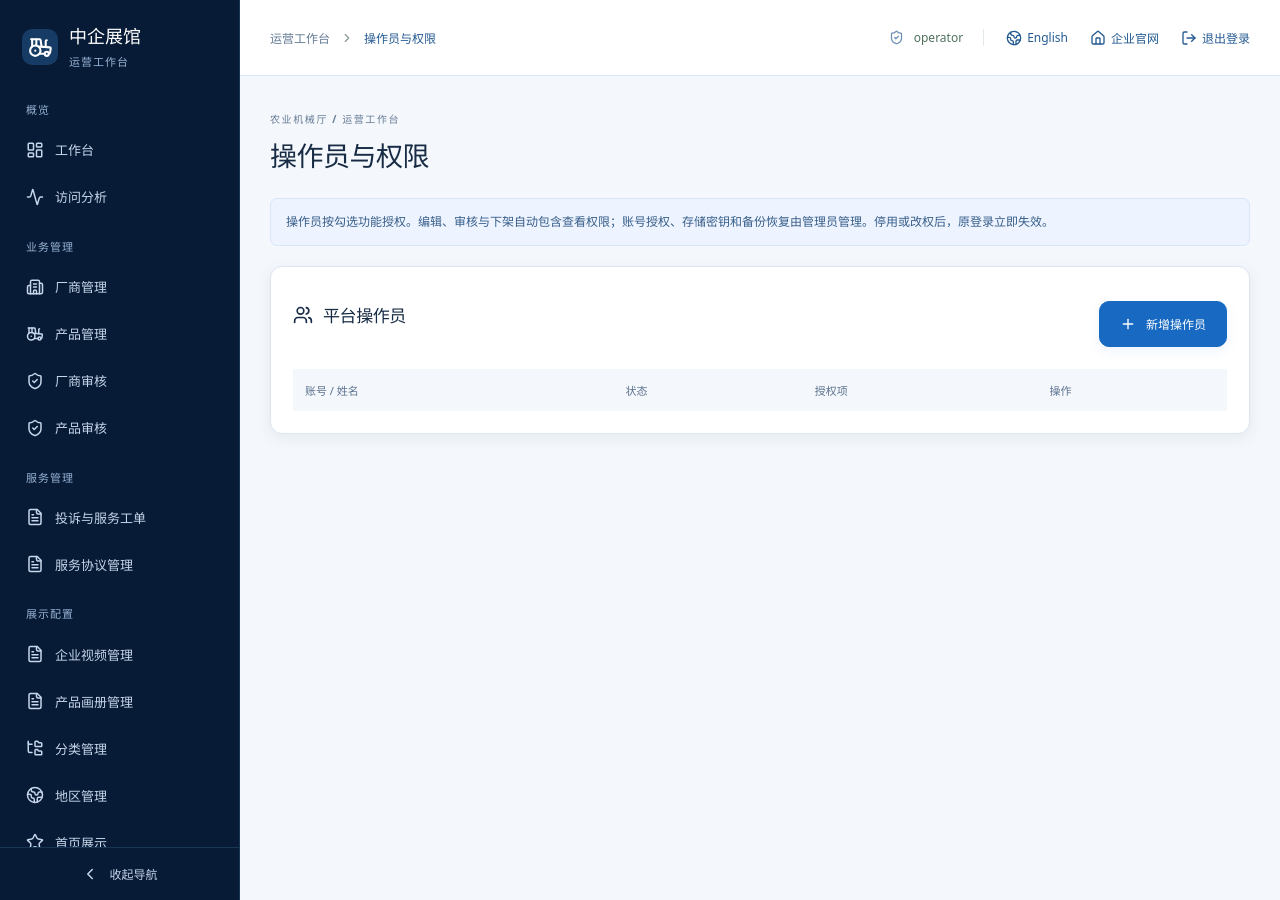
Scenario: saves dependent operator grants and shows generated credentials once
Click the button "新增操作员".
click(1163, 324)  # box [1099,301,1227,347]
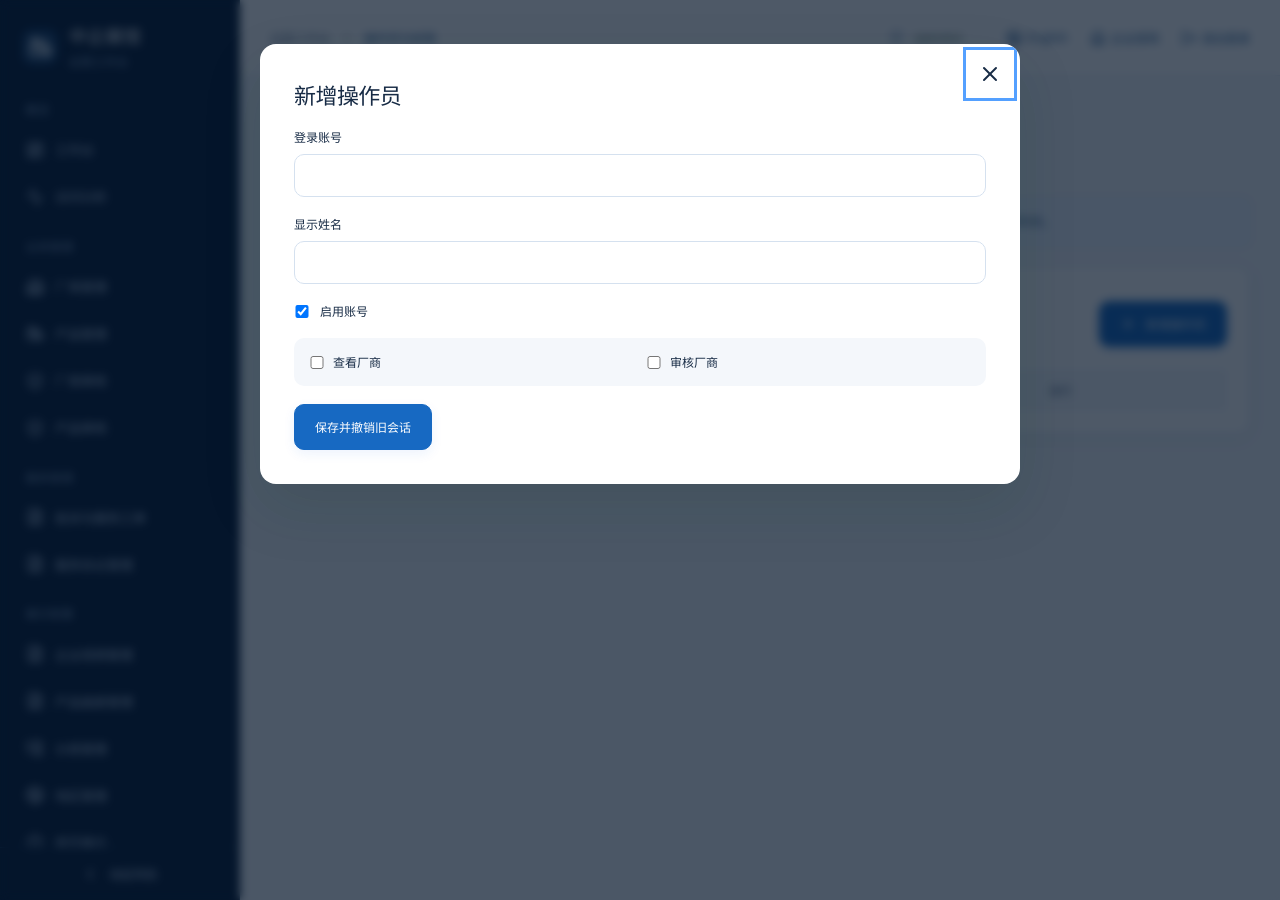
Type "tester" into the field labelled "登录账号".
click(640, 176); type("tester")  # box [294,154,986,197]
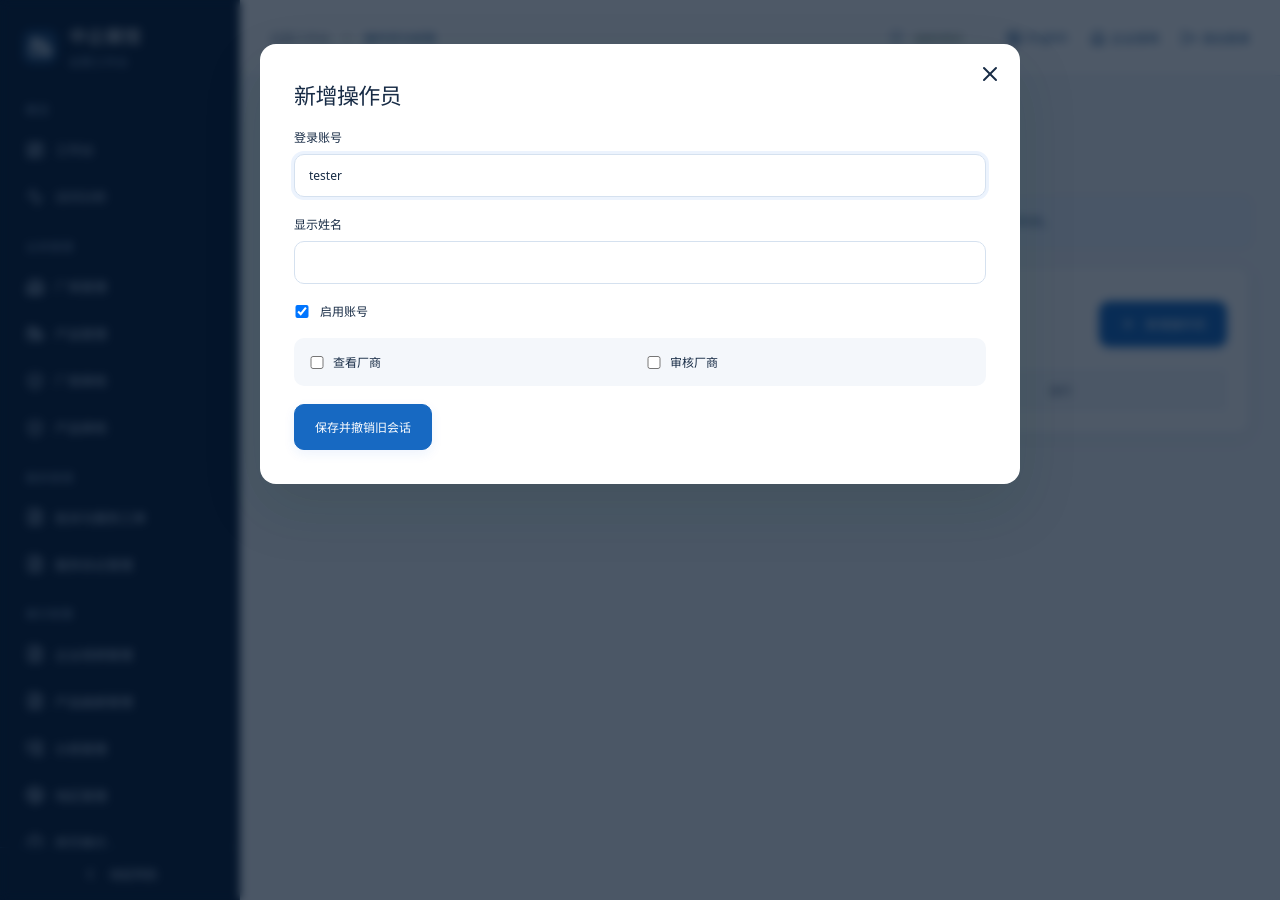
Click the checkbox labelled "审核厂商".
click(654, 362)  # box [646,356,662,369]
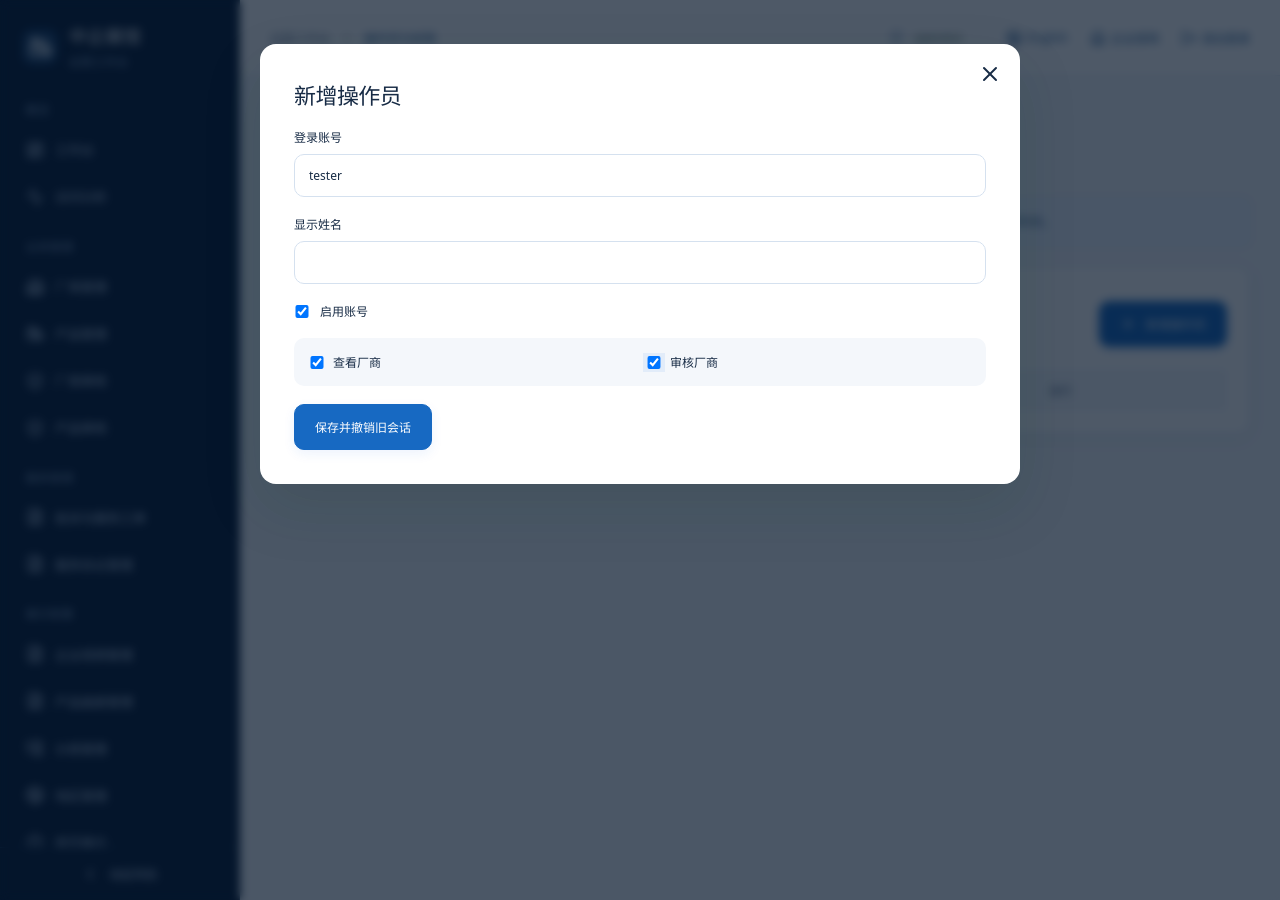
Check: the checkbox labelled "查看厂商" is checked, box [309,356,325,369]
Click the button "保存并撤销旧会话".
click(363, 427)  # box [294,404,432,450]
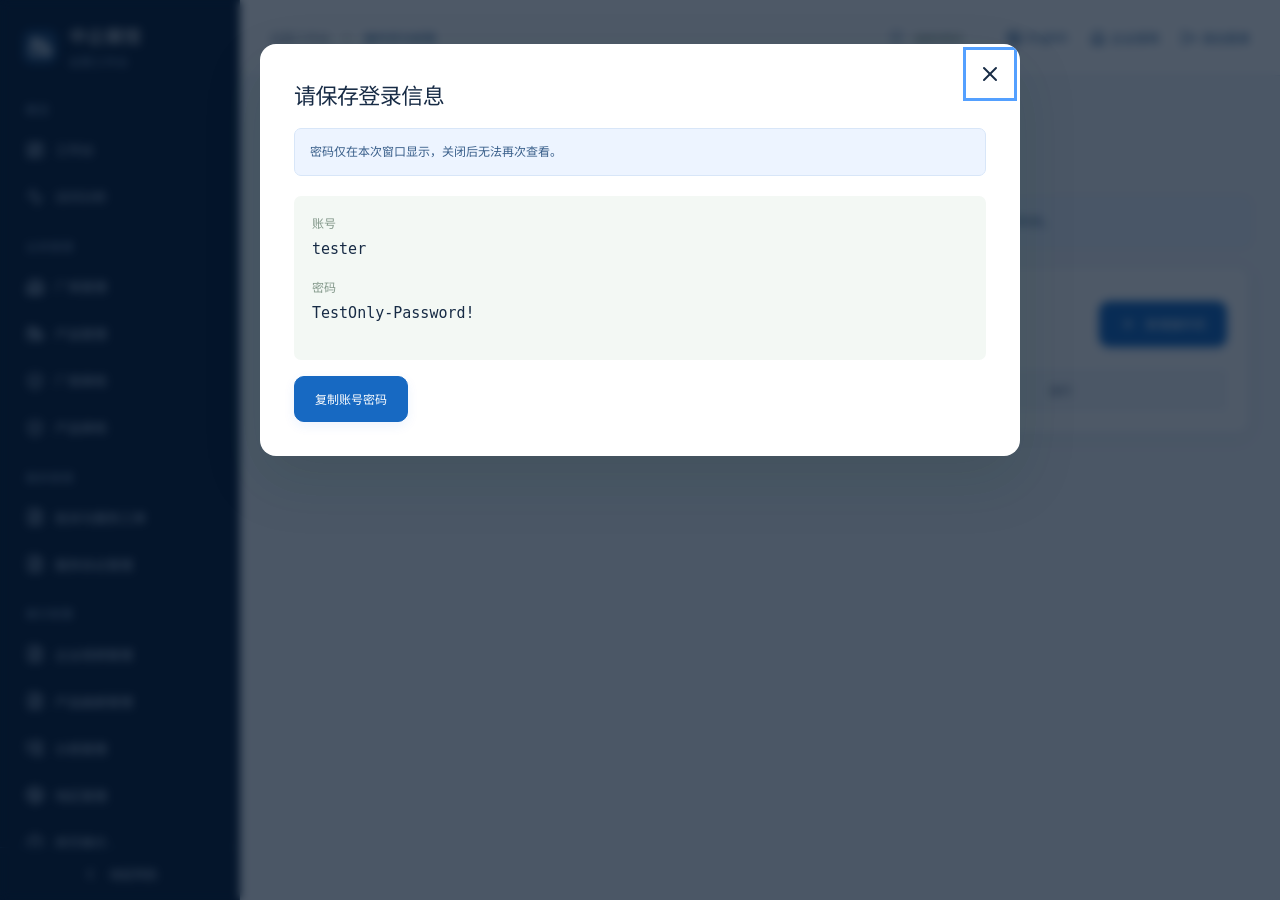
Check: the text "TestOnly-Password!" is shown, box [312,304,475,322]
